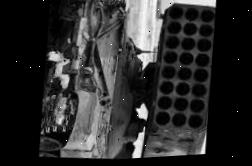rszo: (36, 0, 218, 164)
